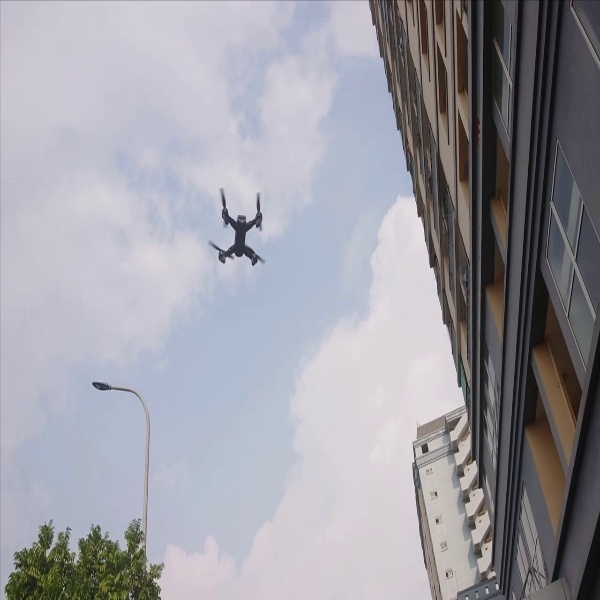drone: (199, 179, 274, 277)
